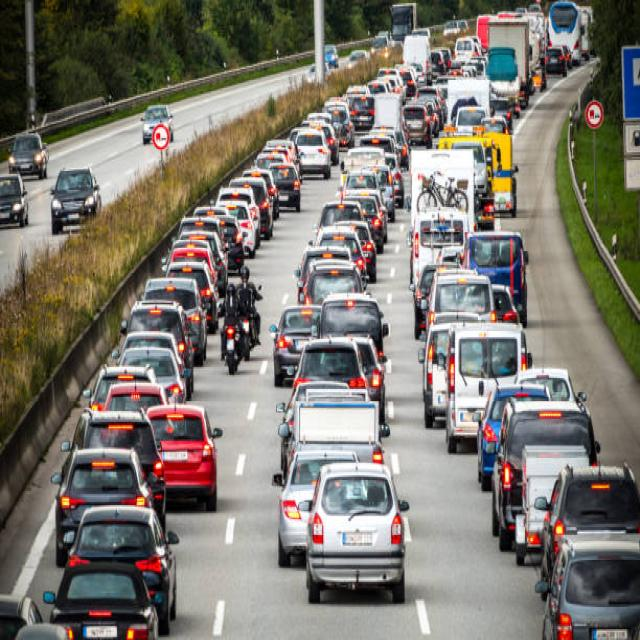Car: (50, 166, 100, 234), (7, 130, 48, 179), (0, 171, 28, 227), (140, 104, 174, 144)
